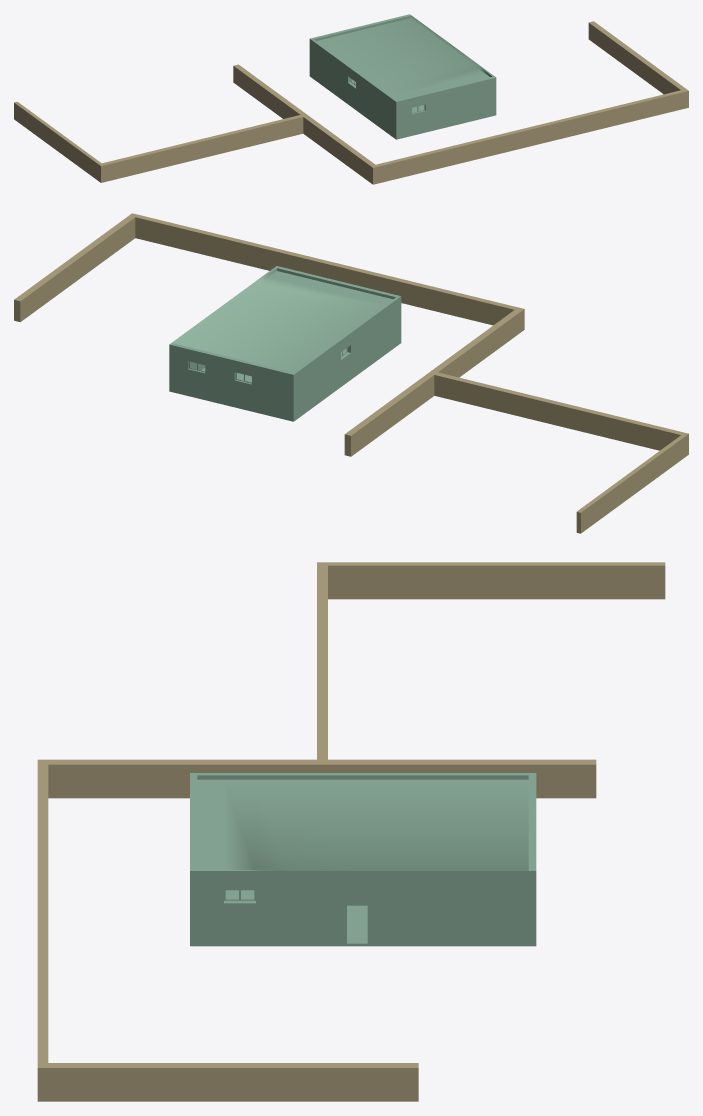
Rendered from model_housy.fbx.
3 views of the same model, one above another, from view 1: azimuth 30°, elevation 25°; view 2: azimuth 150°, elevation 25°; view 3: azimuth 270°, elevation 25° (orthographic). The views are drawn at different scales.
Visible parts, largest first — view 1: polymsh28; view 2: polymsh28; view 3: polymsh28.
Boxes of the visible parts, bbox=[...] form: polymsh28: bbox=[14, 14, 688, 184]; polymsh28: bbox=[14, 213, 688, 533]; polymsh28: bbox=[37, 562, 665, 1101].
Size of the model in its own units: 461 by 34.05 by 242.
